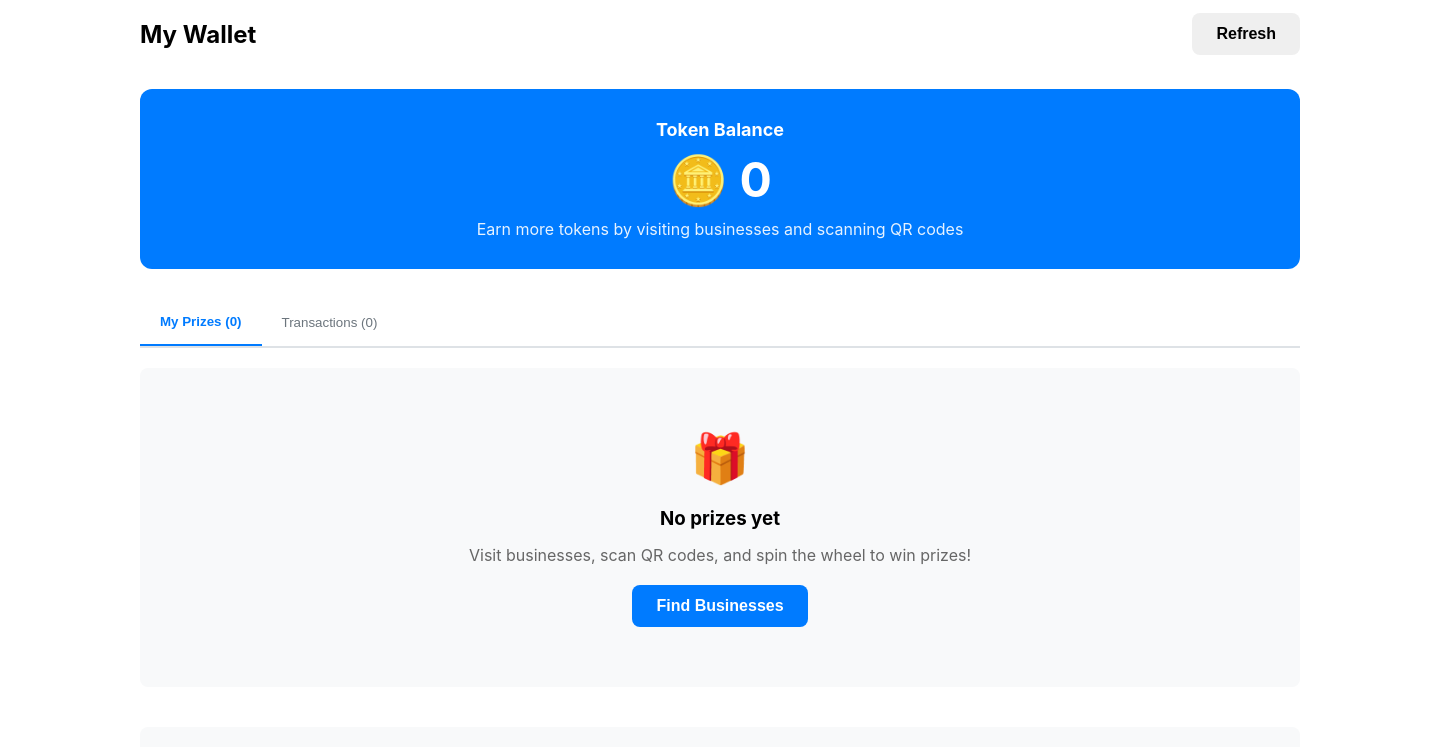
Test: Wallet Flow Integration Tests › handles empty wallet state
This screenshot has width=1440, height=747.
Expected: the text "🪙 0" is shown, [668,150,772,209]
Expected: the heading "No prizes yet" is shown, [660,507,780,530]
Note: Switch to transactions tab
Click the button "Transactions (0)".
click(329, 322)  # box [262,299,397,346]
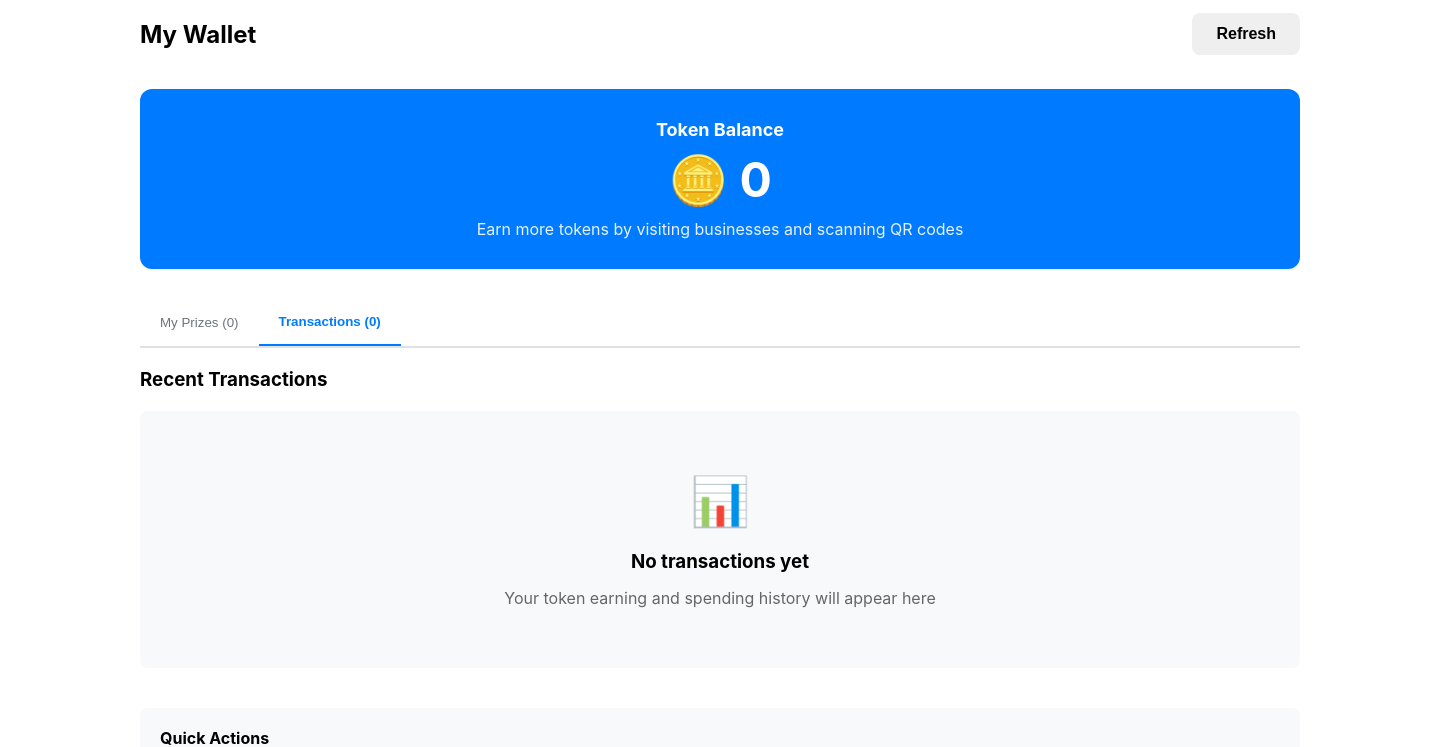
Expected: the heading "No transactions yet" is shown, [631,550,809,573]
Expected: the text "Your token earning and spending history will appear here" is shown, [504,588,936,608]
